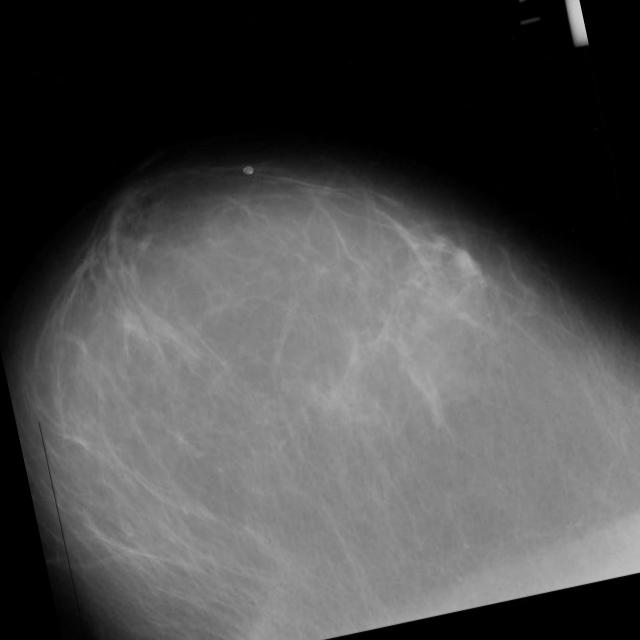CIRC: (444, 241, 486, 284)
